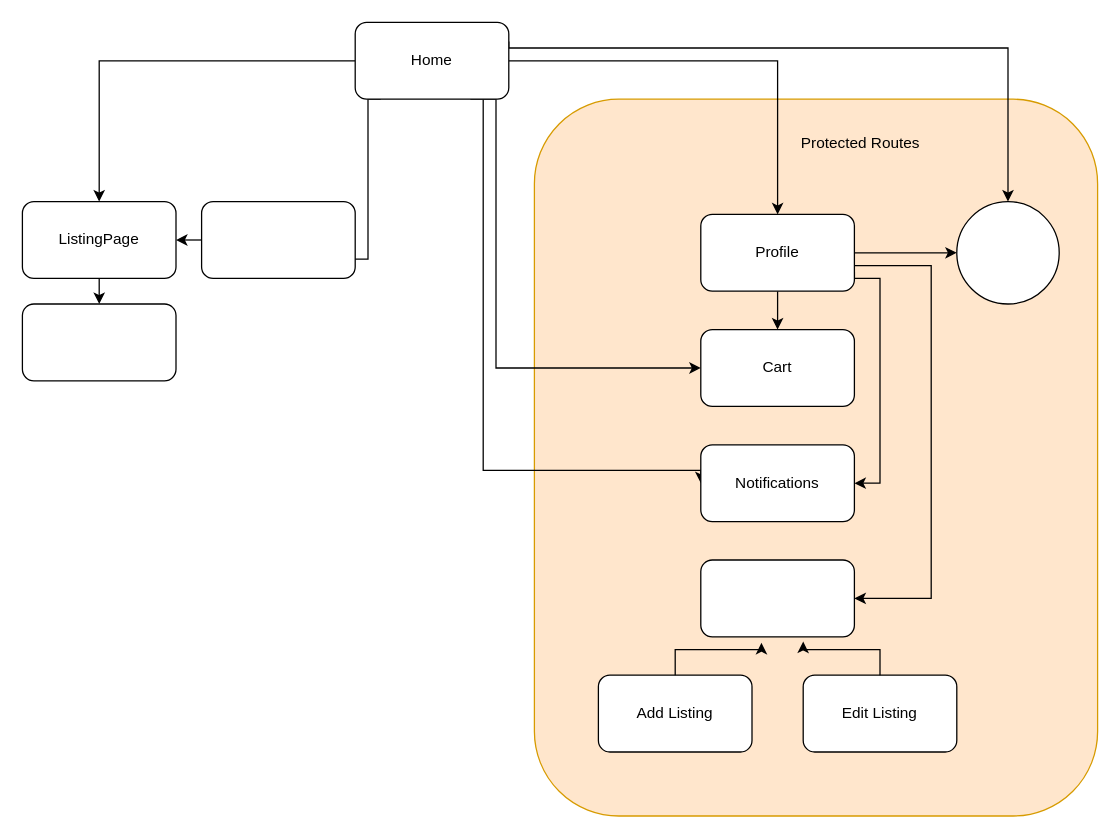
Image size: 1120x838. Some labels were removed from this diagram. Here are the shapes that lost their labels. From the top down, the centre of each, then its label:
At point (277, 239): "SearchPage".
At point (1007, 252): "Settings".
At point (98, 342): "storePage".
At point (777, 598): "Listings".
